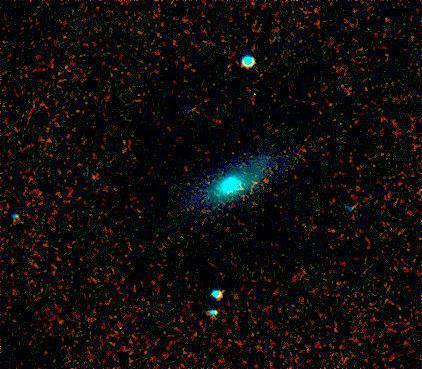star: (79, 164, 109, 194)
